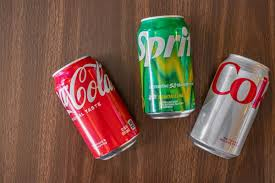can: (53, 11, 271, 158)
